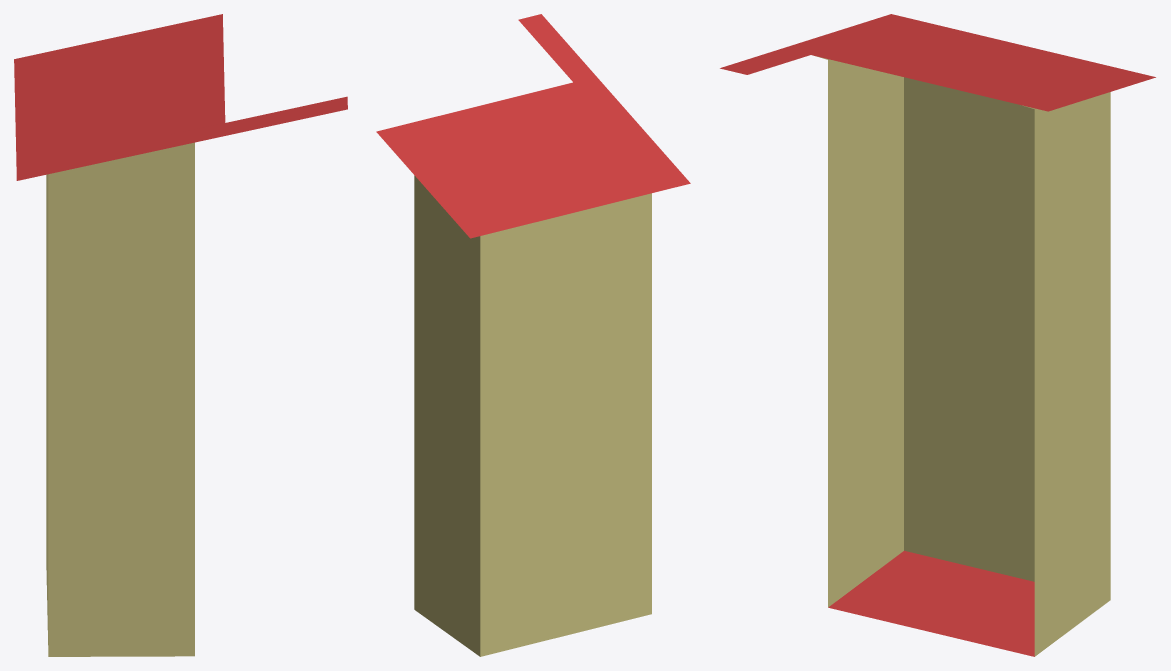
3 renders of one model, left to right at view 1: azimuth 30°, elevation 25°; view 2: azimuth 150°, elevation 25°; view 3: azimuth 270°, elevation 25°, orthographic. The views are drawn at different scales.
Visible parts, largest first — view 1: group_5, group_3, group_4; view 2: group_5, group_3, group_4; view 3: group_5, group_3, group_6.
Part boxes in pixels (left/top/right/bottom): group_5: left=46, top=142, right=194, bottom=656; group_3: left=14, top=14, right=347, bottom=180; group_4: left=14, top=15, right=222, bottom=137; group_5: left=414, top=175, right=651, bottom=656; group_3: left=376, top=14, right=690, bottom=238; group_4: left=377, top=128, right=643, bottom=236; group_5: left=815, top=56, right=1110, bottom=656; group_3: left=720, top=14, right=1155, bottom=111; group_6: left=828, top=550, right=1034, bottom=656.
Size of the model in its own units: 5.07 by 6.48 by 9.67.
